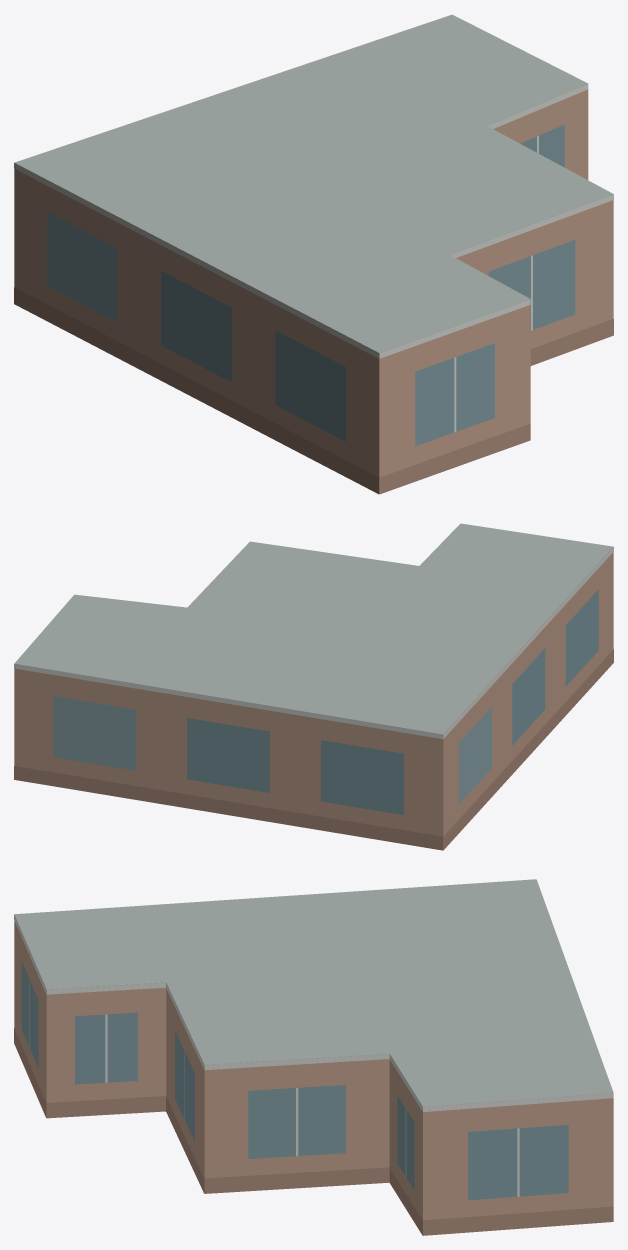
Rendered from survey-upis-32611266.glb.
The picture shows the model from 3 angles, top to bottom: view 1: azimuth 30°, elevation 25°; view 2: azimuth 150°, elevation 25°; view 3: azimuth 270°, elevation 25°; orthographic projection. The views are drawn at different scales.
Parts seen in each view (by area): view 1: survey-upis-32611266.tmp; view 2: survey-upis-32611266.tmp; view 3: survey-upis-32611266.tmp.
Part boxes in pixels (x1,y1,x2,y2): survey-upis-32611266.tmp: (14,14,613,494); survey-upis-32611266.tmp: (14,523,613,850); survey-upis-32611266.tmp: (14,879,613,1235).
Bounding box in the file's own units: 11.57 × 3.05 × 12.87.
